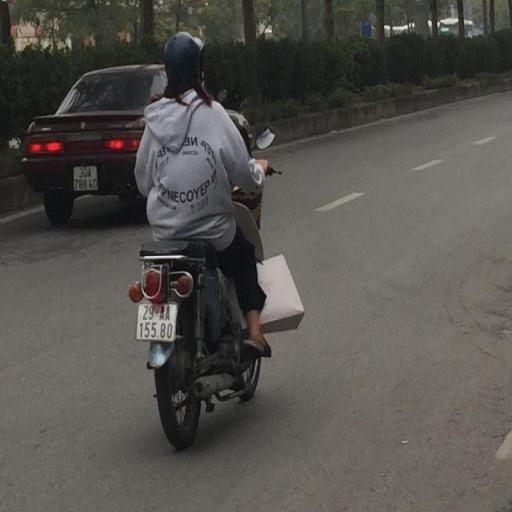bike: (132, 30, 276, 448)
numberplate: (136, 300, 180, 343)
with helmet: (162, 32, 207, 76)
